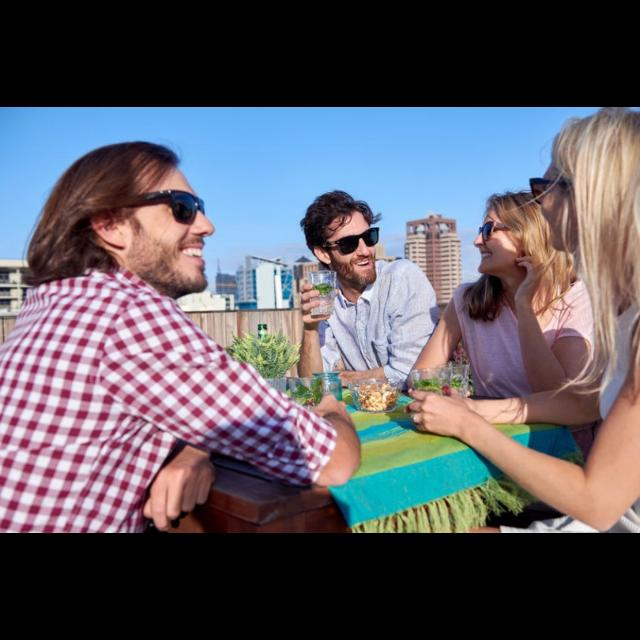head: (74, 142, 216, 294), (473, 191, 561, 277), (474, 194, 560, 276), (305, 198, 379, 288)
